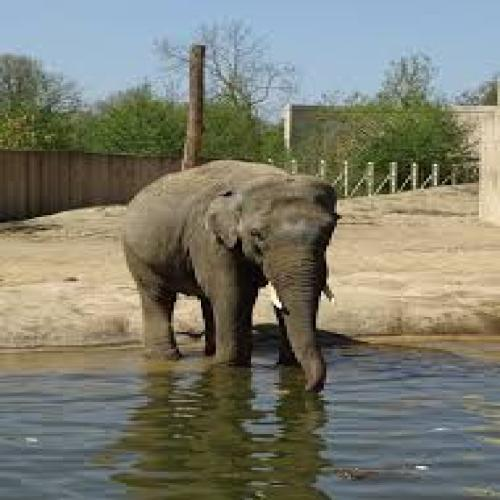asian_elephant-endangered: (126, 163, 335, 388)
